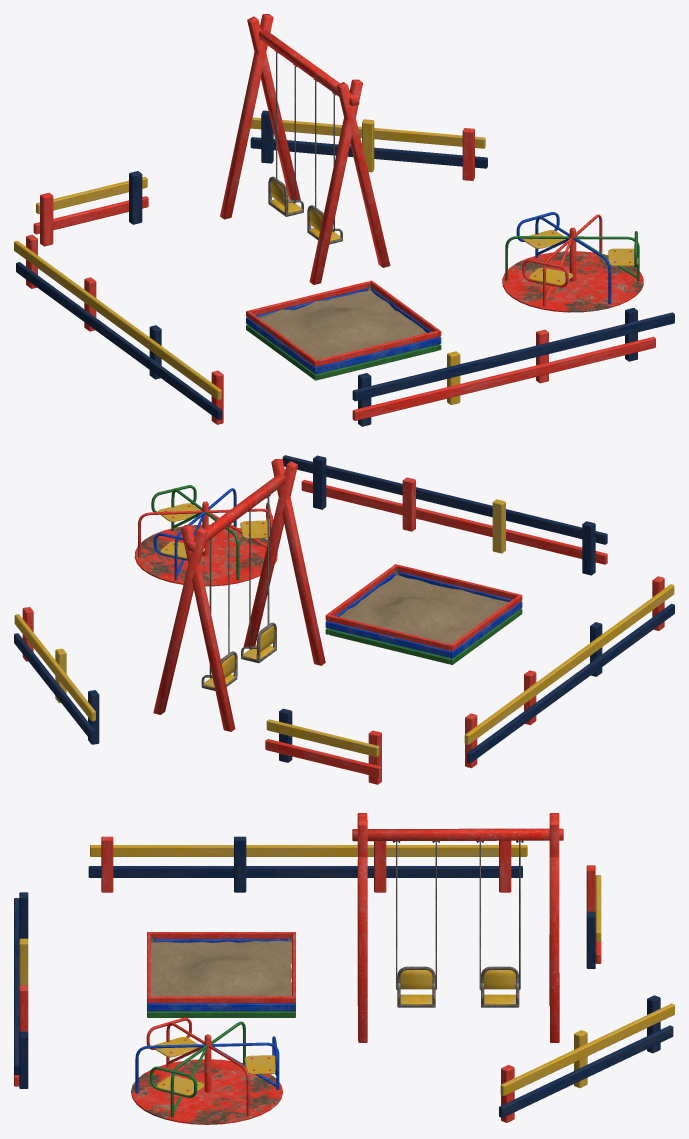
File: playground.glb
The picture shows the model from 3 angles, top to bottom: view 1: azimuth 30°, elevation 25°; view 2: azimuth 150°, elevation 25°; view 3: azimuth 270°, elevation 25°; orthographic projection. The views are drawn at different scales.
Parts seen in each view (by area): view 1: child sand; view 2: child sand; view 3: child sand.
Boxes of the visible parts, box(x1,y1,x2,y2) form: child sand: box(14, 14, 674, 426); child sand: box(14, 455, 674, 784); child sand: box(14, 813, 674, 1124).
Bounding box in the file's own units: 64.71 × 25.23 × 73.38.
6 materials, 6 textured.
